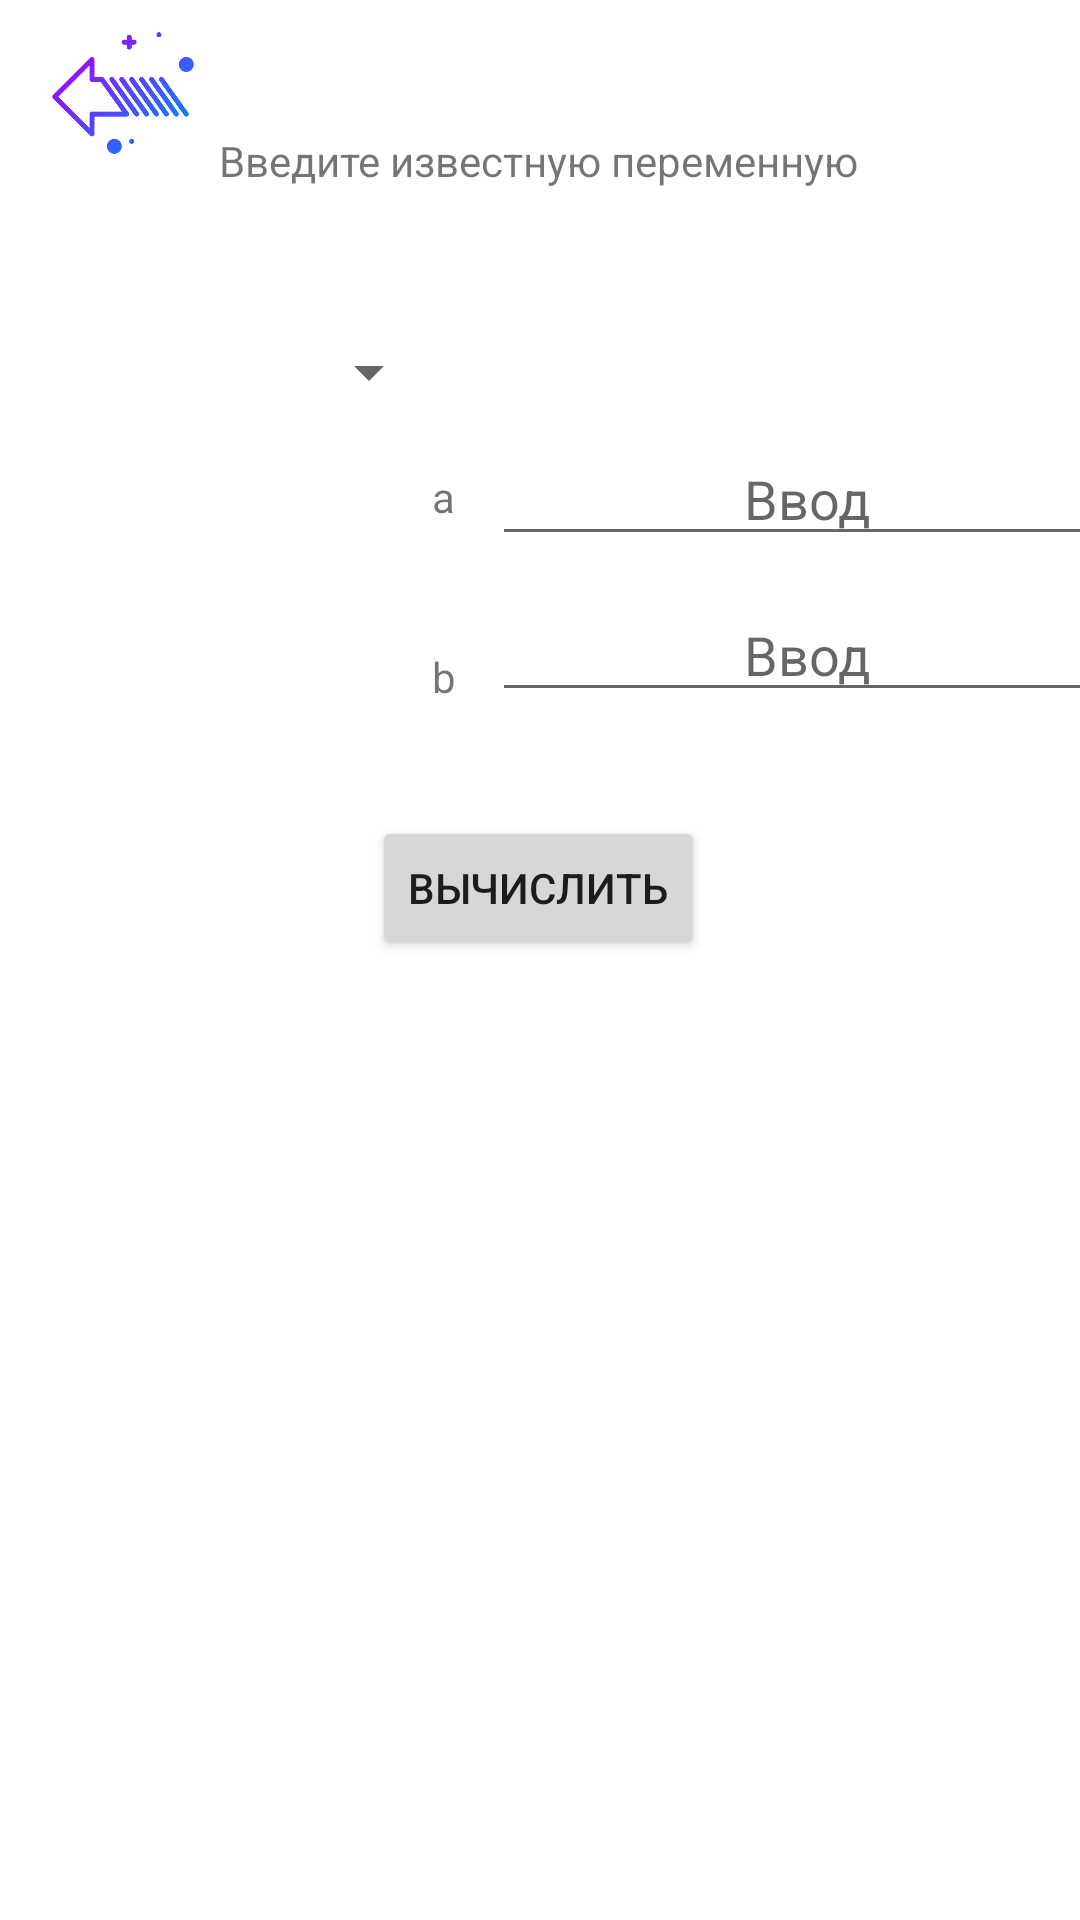

Locate icon controls on the screen. Image size 1080*1920, boxes as region(x1, y1, x2, y2).
Назад: region(52, 32, 243, 177)
